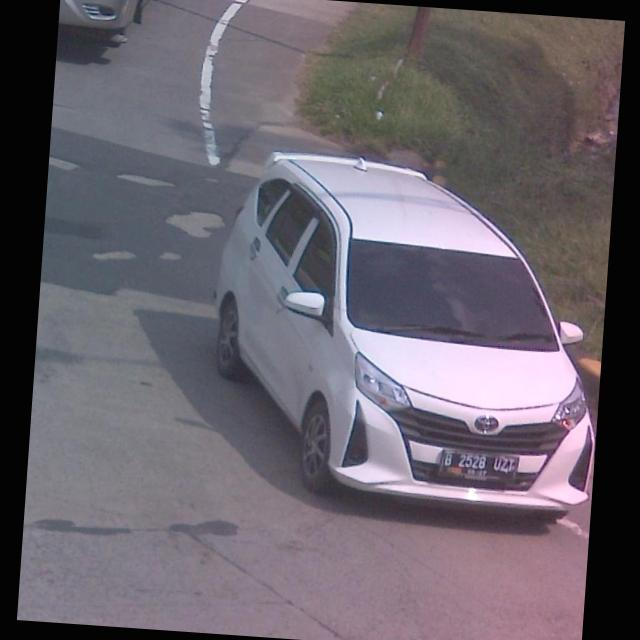plate: (436, 447, 520, 485)
